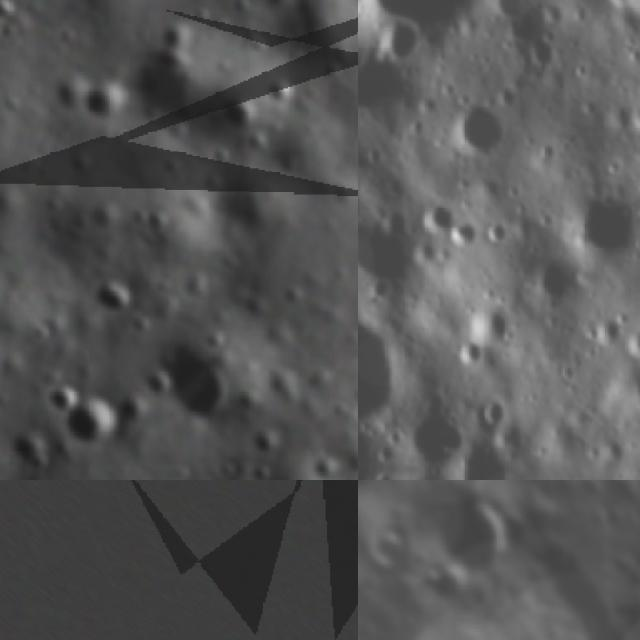crater: (427, 488, 529, 592), (358, 0, 508, 58), (161, 334, 243, 429), (124, 48, 215, 132), (561, 182, 640, 267), (358, 313, 412, 436), (358, 33, 417, 133), (447, 94, 514, 173), (402, 396, 468, 474), (64, 394, 126, 458), (519, 254, 584, 315), (361, 521, 418, 583), (371, 14, 427, 72), (426, 562, 475, 619), (450, 435, 514, 478), (8, 422, 56, 475), (465, 298, 516, 344), (78, 80, 130, 124), (605, 578, 640, 640), (88, 278, 136, 323), (584, 301, 626, 352), (417, 197, 460, 239), (524, 29, 564, 74), (223, 95, 261, 137), (612, 364, 640, 419), (619, 488, 640, 555), (250, 427, 286, 464), (142, 369, 178, 405), (481, 0, 533, 21), (456, 337, 487, 368), (358, 169, 373, 232), (620, 94, 640, 141), (307, 454, 342, 480), (266, 80, 296, 109), (51, 383, 79, 414), (0, 0, 25, 32), (622, 325, 640, 364), (358, 0, 367, 16)
